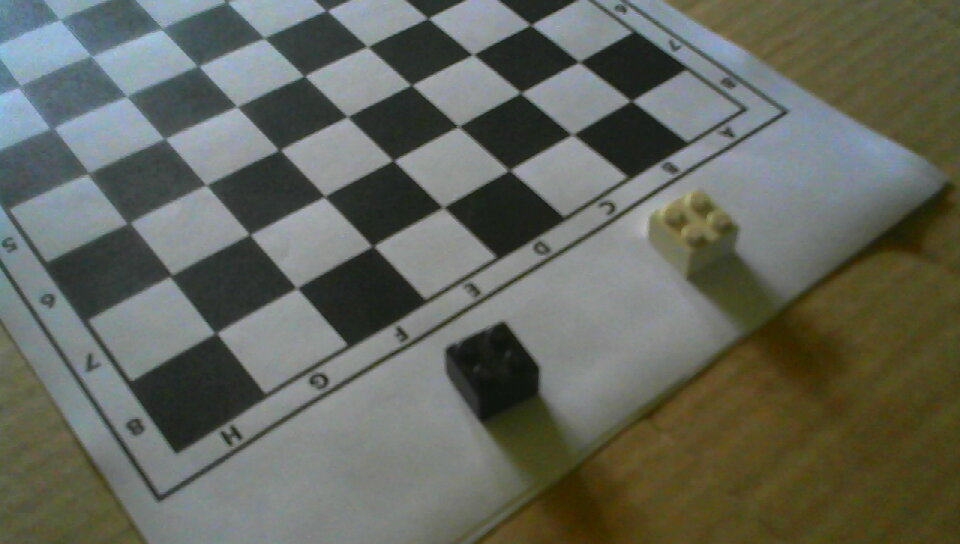bp: (445, 320, 539, 417)
wp: (647, 186, 741, 279)
